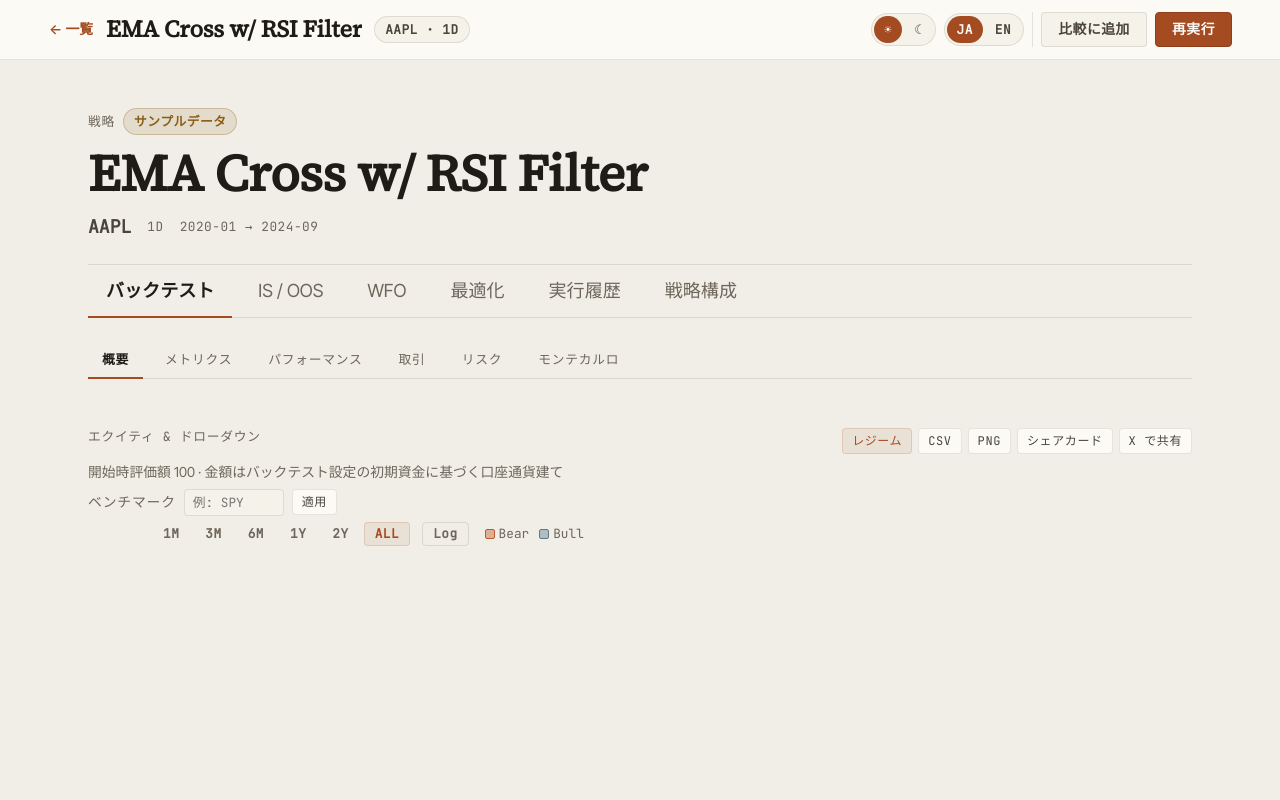
DetailPage の IS/OOS・WFO 概念説明 (issue #361) › IS / OOS タブに概念説明のサブテキストが表示される
Click the tab "IS / OOS": (291, 291) [240, 265, 341, 318]
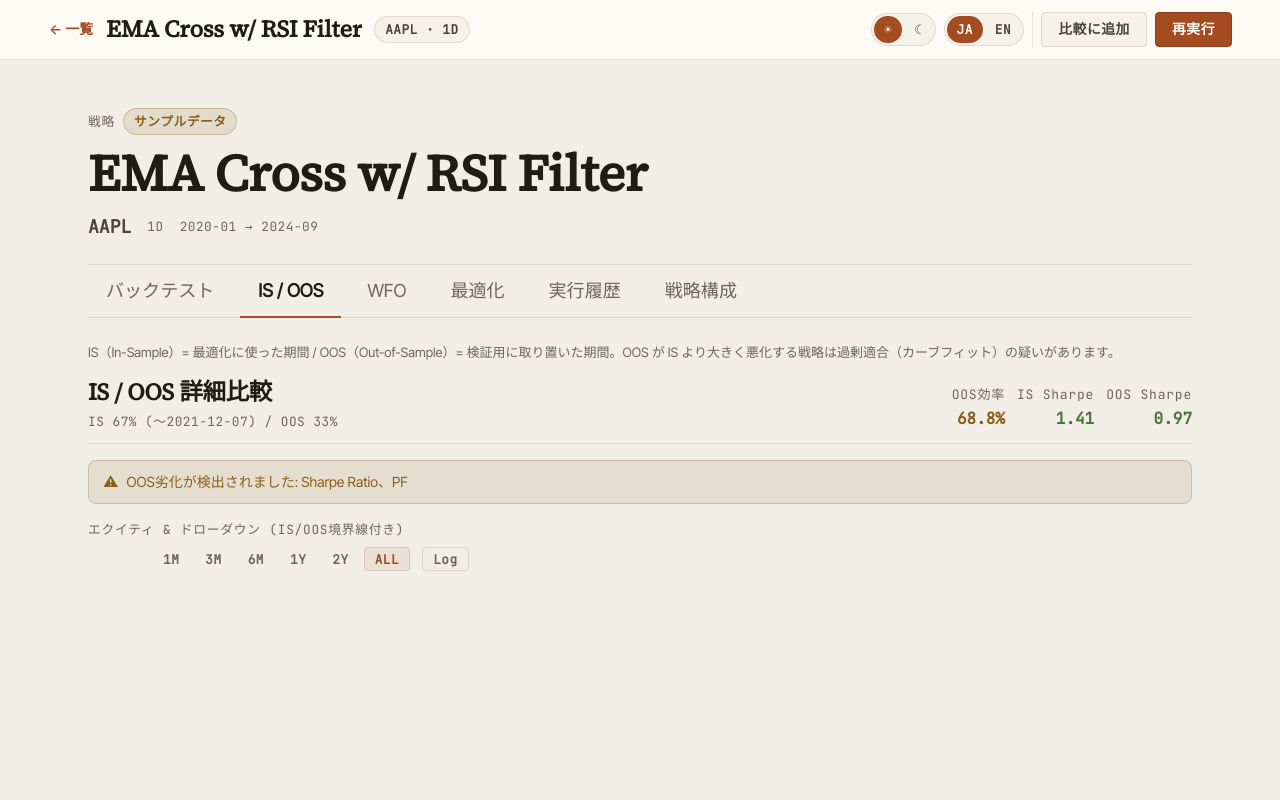
expect the text "過剰適合" is shown: met, box [88, 344, 1121, 360]
